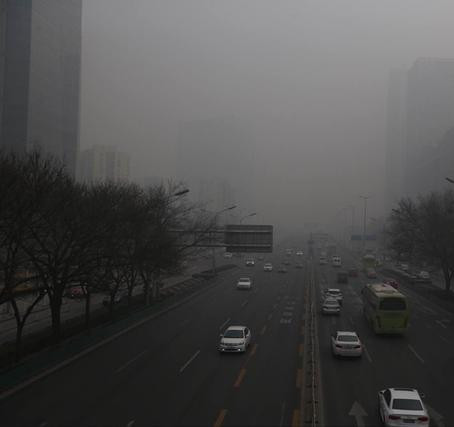bus: (359, 279, 408, 336)
car: (376, 386, 432, 427), (217, 325, 252, 353), (329, 330, 364, 357), (321, 296, 341, 315), (324, 287, 344, 303), (335, 271, 350, 287), (237, 275, 252, 290), (382, 277, 398, 290), (365, 267, 378, 280), (347, 266, 359, 278), (331, 254, 342, 266), (244, 256, 256, 267), (318, 254, 328, 265), (263, 262, 273, 271)
